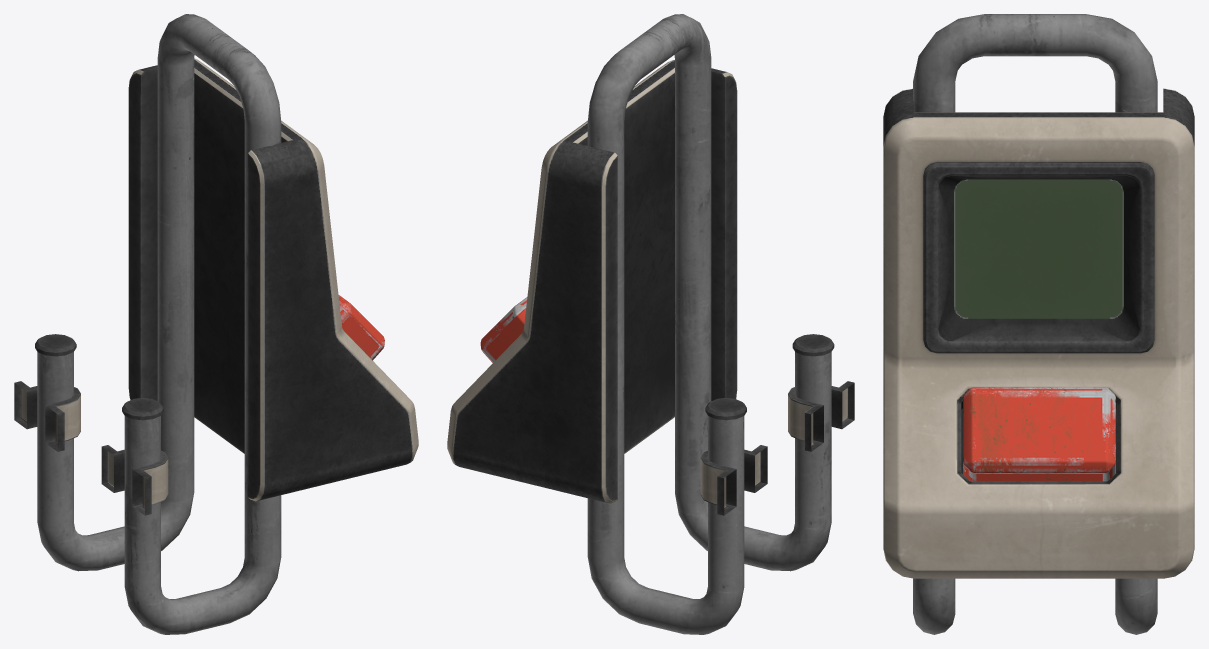
File: HoveringPlatformButton.fbx
3 renders of one model, left to right at view 1: azimuth 30°, elevation 25°; view 2: azimuth 150°, elevation 25°; view 3: azimuth 270°, elevation 25°, orthographic. The views are drawn at different scales.
Visible parts, largest first — view 1: HoveringPlatformPowerBox, HoveringPlatformButton_50Degrees; view 2: HoveringPlatformPowerBox, HoveringPlatformButton_50Degrees; view 3: HoveringPlatformPowerBox, HoveringPlatformButton_50Degrees.
Part boxes in pixels (x1=…): HoveringPlatformPowerBox: x1=14, y1=14, x2=418, y2=634; HoveringPlatformButton_50Degrees: x1=338, y1=295, x2=384, y2=360; HoveringPlatformPowerBox: x1=447, y1=14, x2=854, y2=634; HoveringPlatformButton_50Degrees: x1=480, y1=297, x2=527, y2=362; HoveringPlatformPowerBox: x1=883, y1=14, x2=1194, y2=634; HoveringPlatformButton_50Degrees: x1=963, y1=387, x2=1115, y2=481.
Size of the model in its own units: 58.71 by 109 by 48.47.
